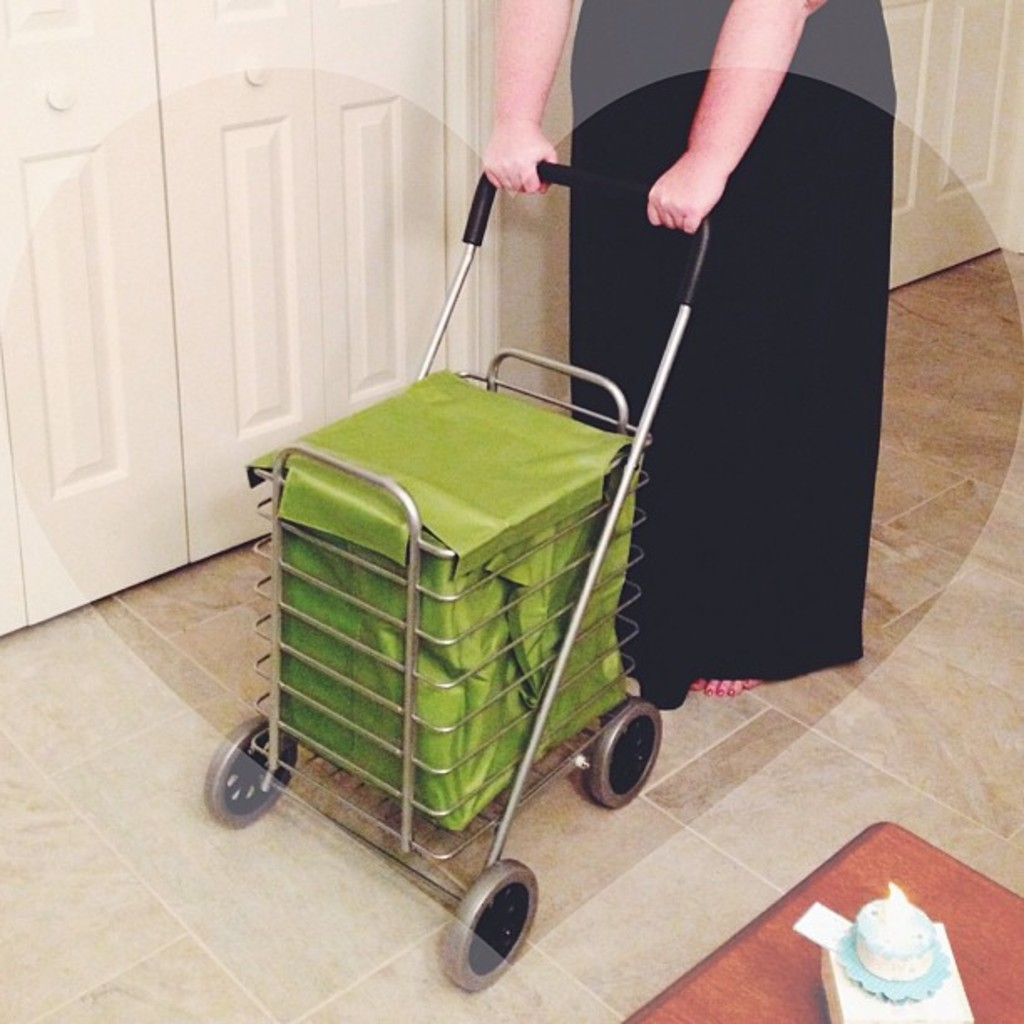Person: (482, 0, 899, 709)
